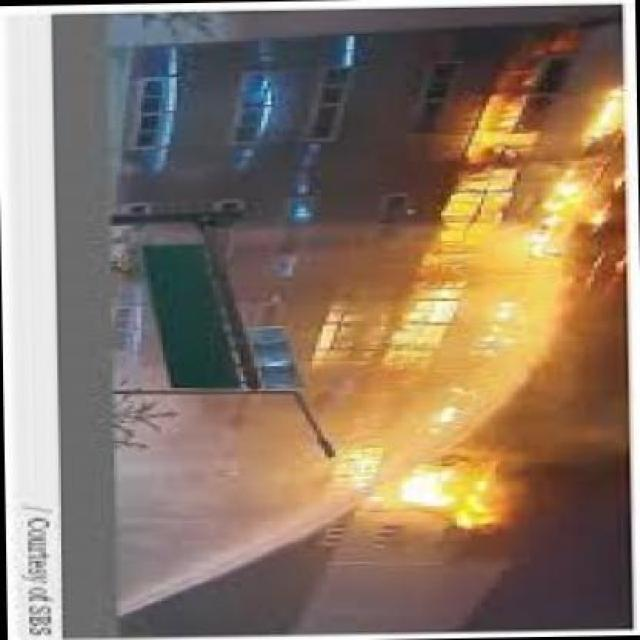Fire: (396, 454, 508, 544), (530, 169, 598, 254), (446, 174, 496, 266), (477, 101, 538, 167), (402, 287, 456, 357), (584, 78, 626, 164), (340, 440, 390, 506), (482, 297, 524, 356)
Smoke: (537, 319, 629, 467)
